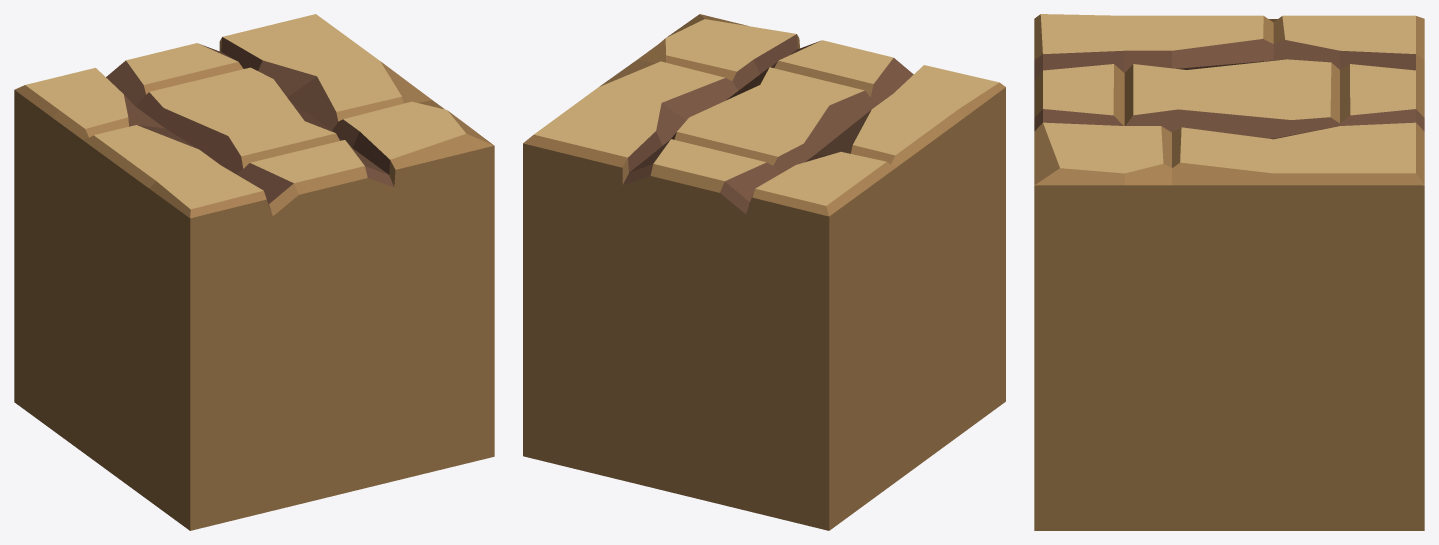
The model's file is BrickRoad.fbx.
The picture shows the model from 3 angles, left to right: view 1: azimuth 30°, elevation 25°; view 2: azimuth 150°, elevation 25°; view 3: azimuth 270°, elevation 25°; orthographic projection. The views are drawn at different scales.
Parts seen in each view (by area): view 1: Stone road; view 2: Stone road; view 3: Stone road.
Boxes of the visible parts, box(x1,y1,x2,y2) form: Stone road: box(14, 14, 494, 530); Stone road: box(523, 14, 1005, 530); Stone road: box(1034, 14, 1424, 530).
Bounding box in the file's own units: 100 × 100 × 100.
